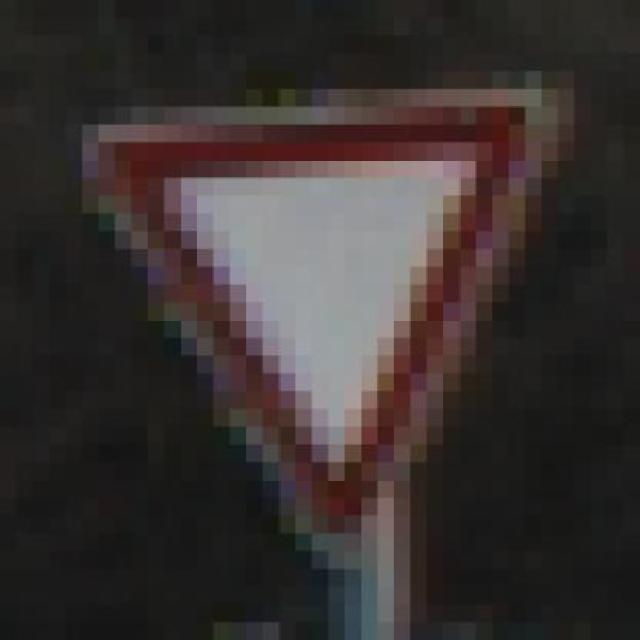Give Way: (38, 52, 579, 550)
